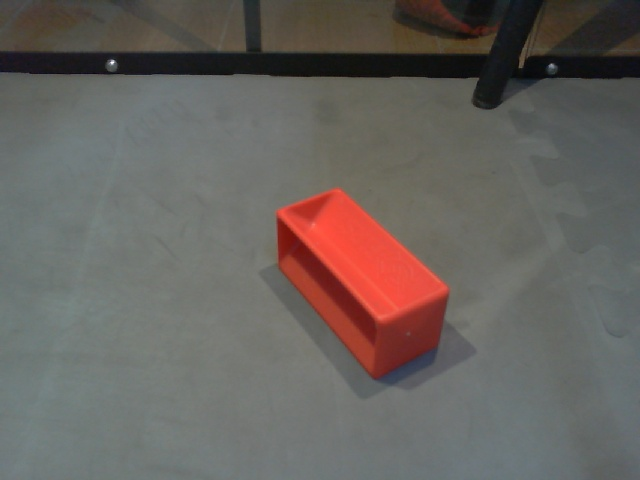RedSample: (274, 185, 452, 385)
